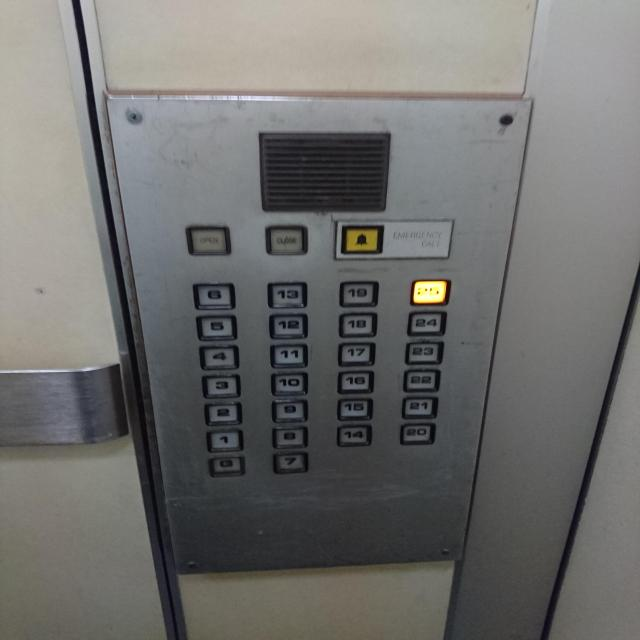1: (206, 429, 244, 452)
10: (270, 371, 308, 396)
11: (270, 344, 308, 368)
12: (268, 314, 308, 339)
13: (267, 281, 308, 309)
14: (336, 424, 372, 446)
15: (336, 398, 373, 421)
16: (337, 370, 374, 394)
17: (337, 342, 376, 366)
18: (339, 312, 377, 338)
19: (339, 281, 379, 308)
2: (204, 401, 242, 426)
20: (400, 422, 435, 444)
21: (401, 396, 438, 419)
22: (403, 369, 440, 392)
23: (405, 340, 444, 364)
24: (407, 310, 447, 336)
3: (200, 373, 242, 399)
4: (198, 344, 239, 370)
5: (195, 315, 238, 341)
6: (192, 282, 236, 310)
7: (272, 451, 308, 474)
8: (272, 426, 308, 449)
9: (271, 399, 308, 423)
G: (208, 454, 246, 478)
alarm: (340, 223, 384, 254)
blur: (409, 279, 452, 306)
text_close door: (265, 225, 308, 255)
text_open door: (185, 225, 231, 256)
